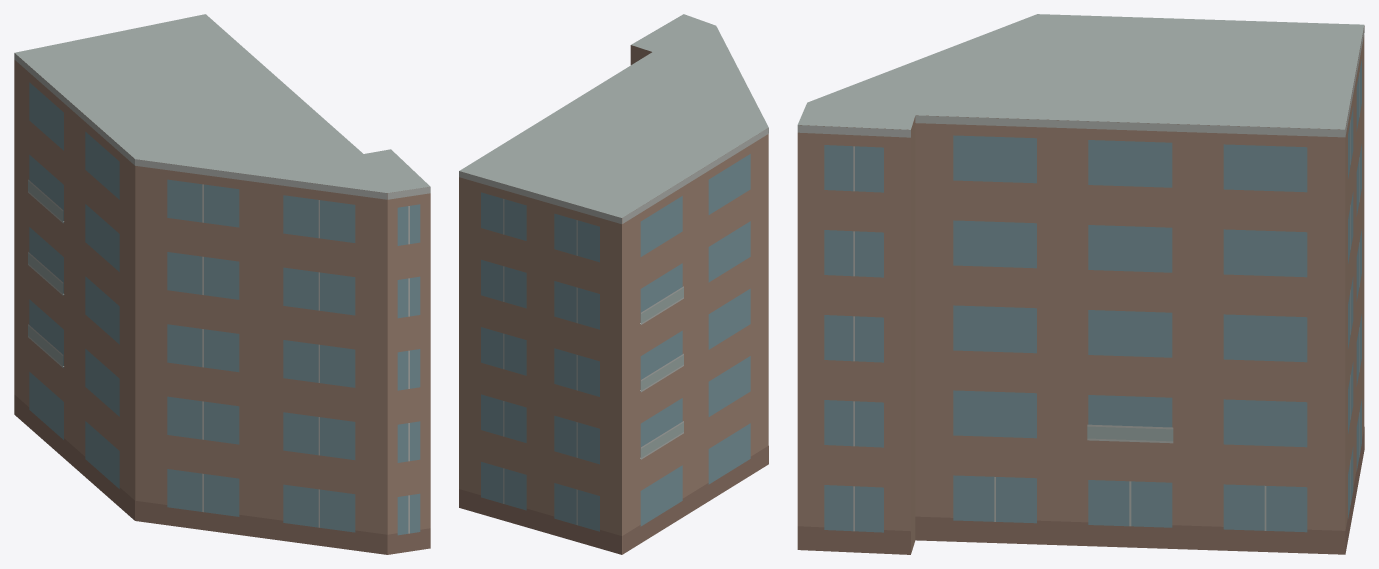
File: survey-upis-32718061.glb
3 views of the same model, side by side, from view 1: azimuth 30°, elevation 25°; view 2: azimuth 150°, elevation 25°; view 3: azimuth 270°, elevation 25° (orthographic). The views are drawn at different scales.
Parts seen in each view (by area): view 1: survey-upis-32718061.tmp; view 2: survey-upis-32718061.tmp; view 3: survey-upis-32718061.tmp.
Part boxes in pixels (left/top/right/bottom): survey-upis-32718061.tmp: left=14, top=14, right=430, bottom=554; survey-upis-32718061.tmp: left=459, top=14, right=768, bottom=554; survey-upis-32718061.tmp: left=797, top=14, right=1364, bottom=554.
Size of the model in its own units: 7.79 by 13.3 by 16.09.
